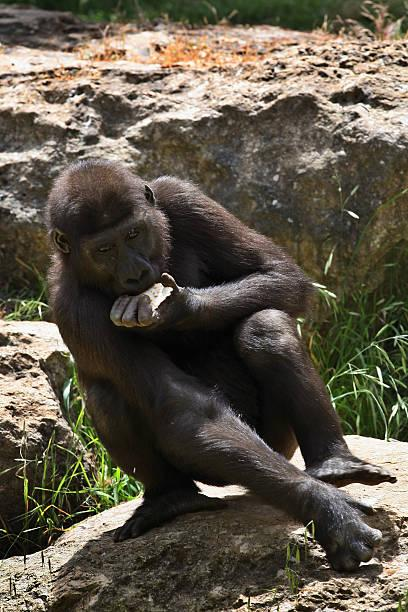gorille_Autres: (15, 130, 408, 588)
